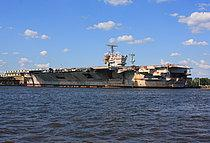MIL_Ship: (27, 43, 195, 89)
